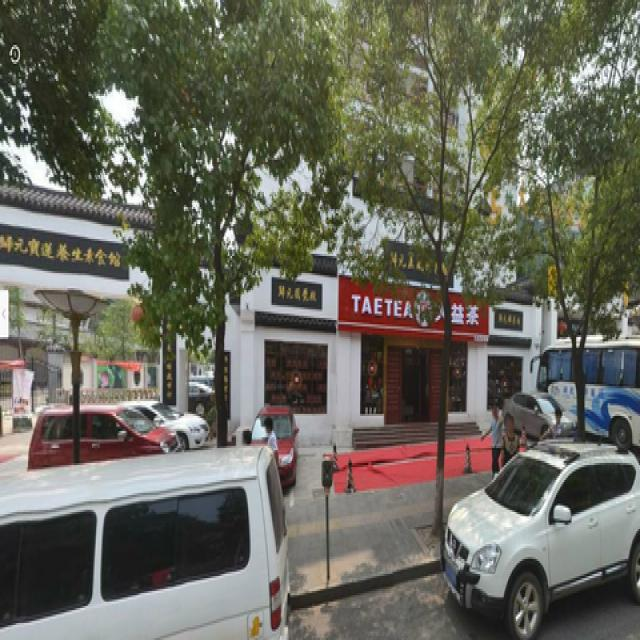cinn: (133, 15, 283, 444)
